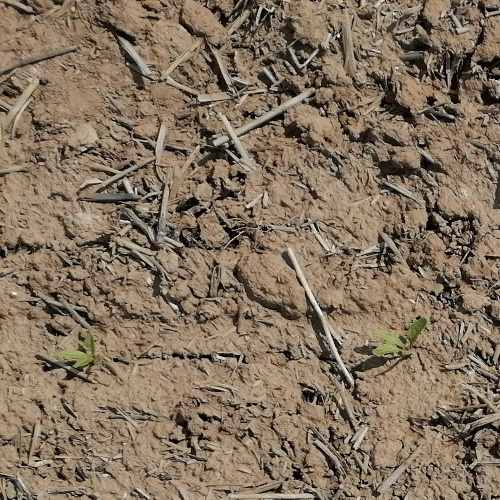beet: (58, 328, 105, 372), (373, 320, 426, 355)
